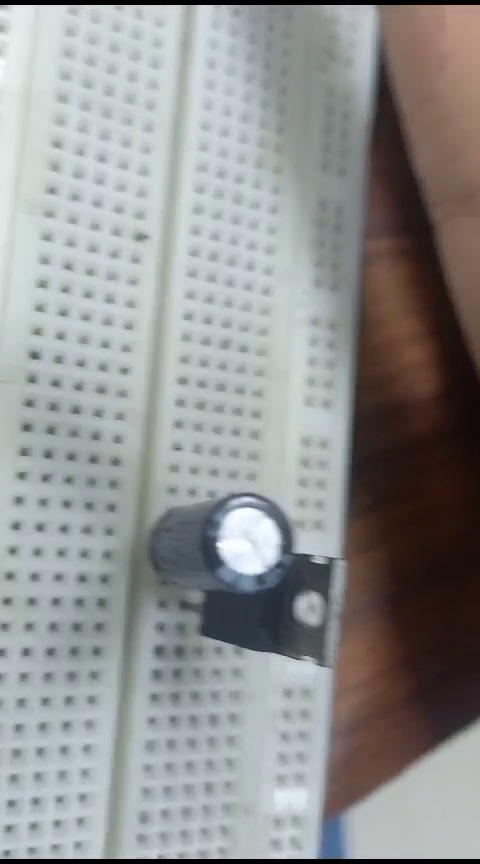capacitor: (156, 489, 294, 599)
voltage regulator: (211, 544, 346, 669)
